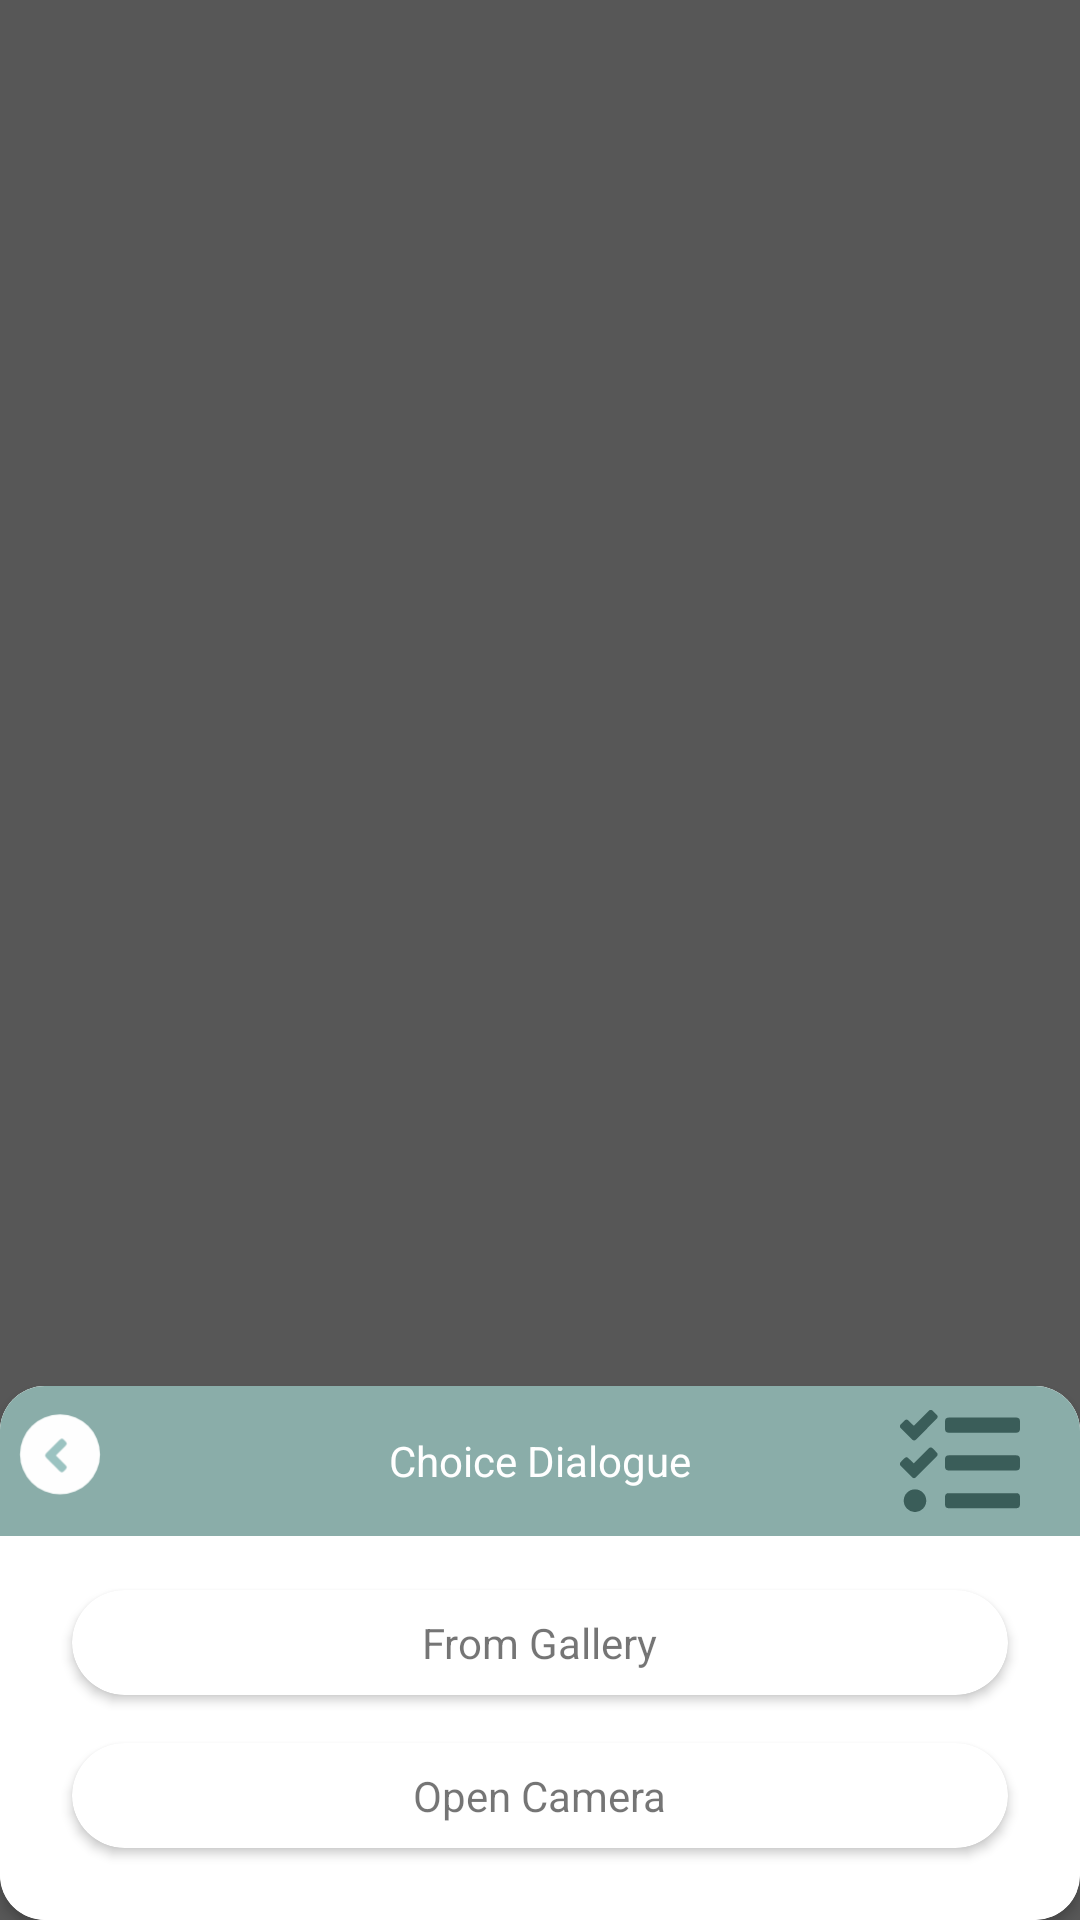

Icons on this 1080*1920 Android screen, each with the point to tap as point (x, y):
back: point (50, 1454)
tasks: point (960, 1461)
